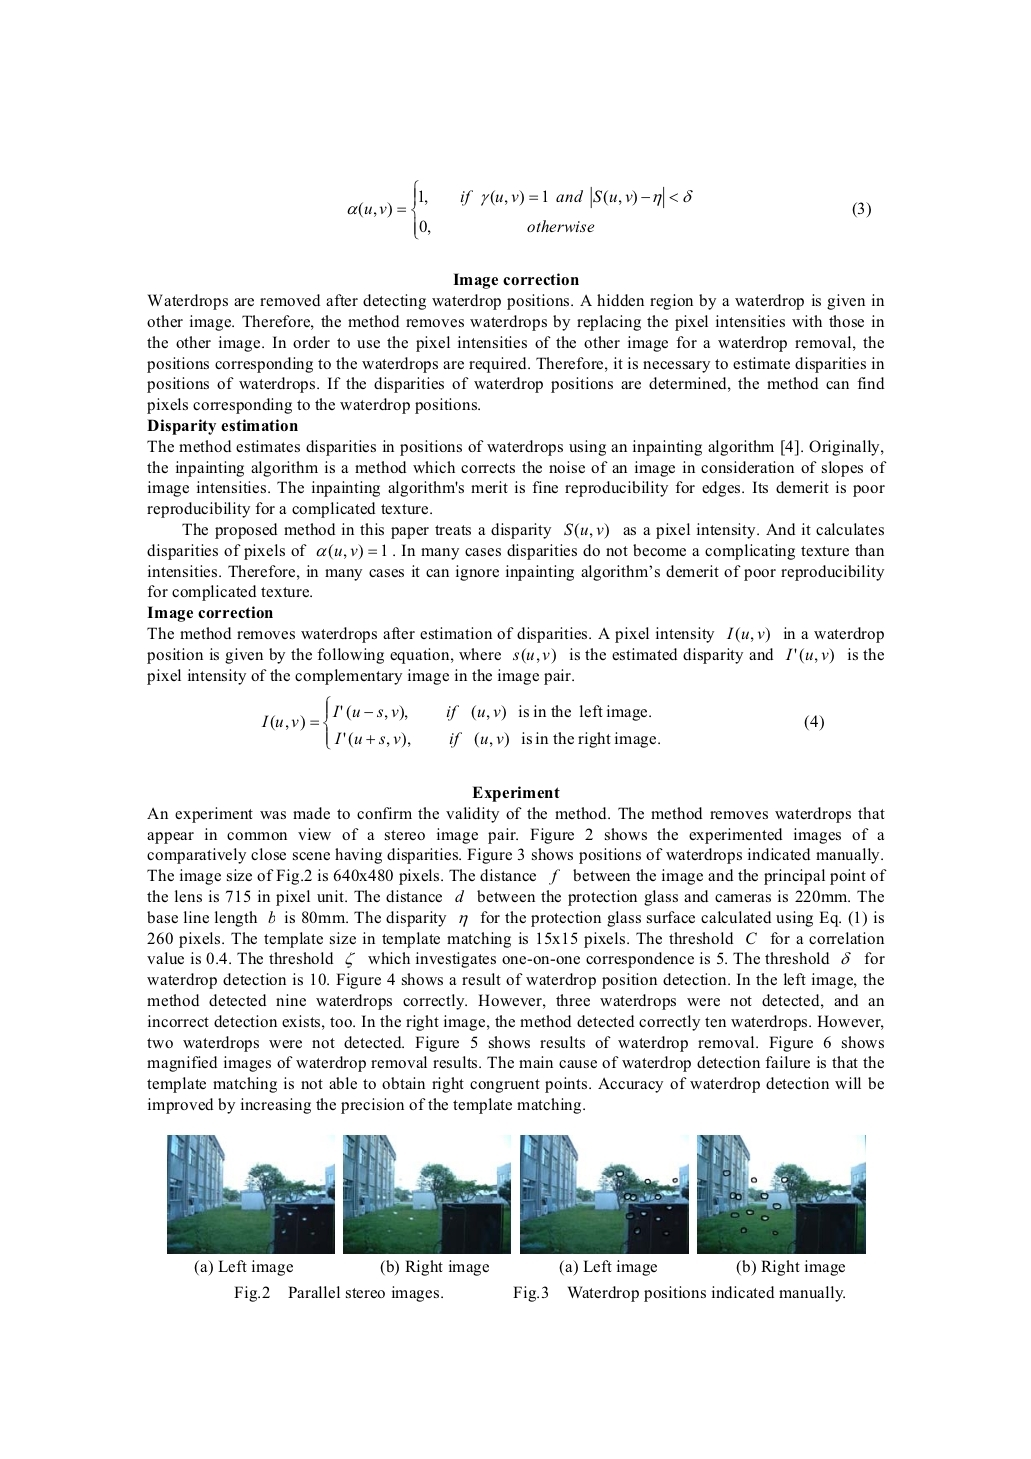figure: (520, 1136, 688, 1253), (343, 1136, 510, 1253), (697, 1136, 865, 1253), (167, 1136, 334, 1253)
formula: (347, 178, 870, 240), (261, 695, 823, 750)
